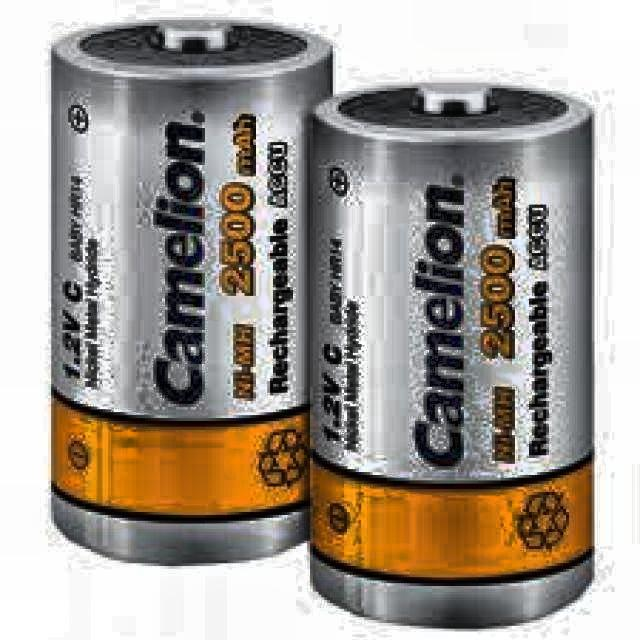battery: (310, 81, 595, 631), (51, 16, 333, 567)
